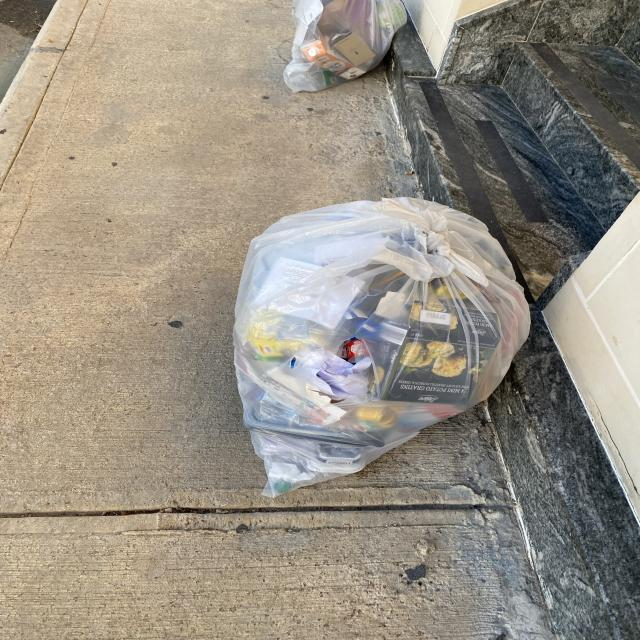Recyclable Material: (234, 193, 535, 500), (283, 0, 410, 94)
